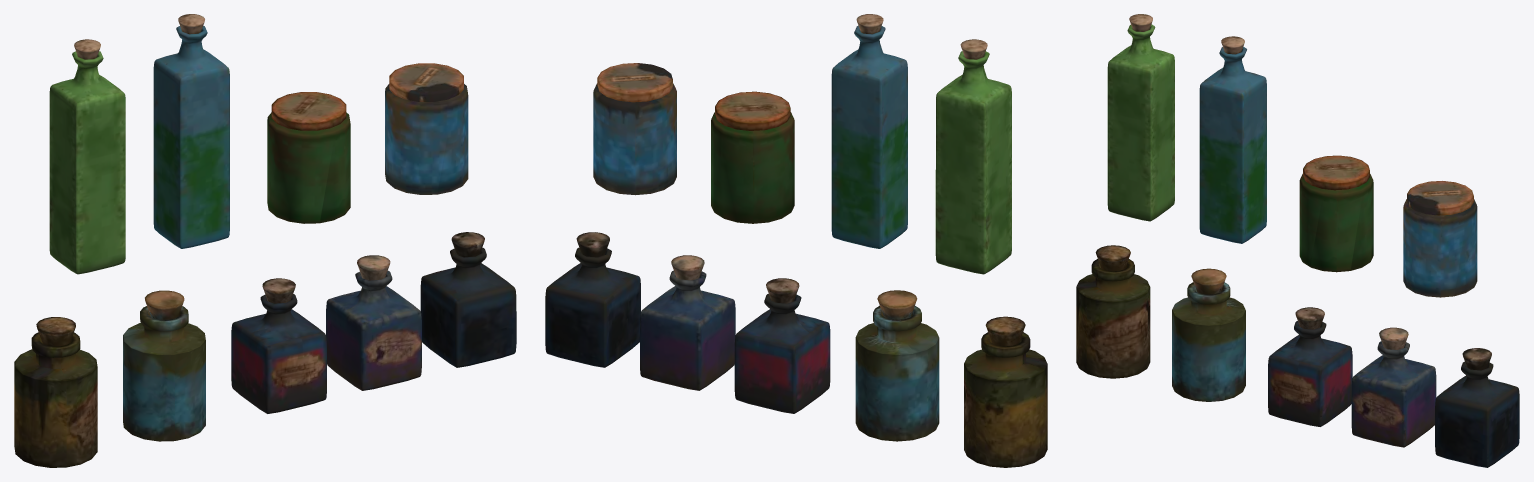
The model's file is potion_and_ingredients_bottles_witcher.glb.
3 views of the same model, side by side, from view 1: azimuth 30°, elevation 25°; view 2: azimuth 150°, elevation 25°; view 3: azimuth 330°, elevation 25° (orthographic). The views are drawn at different scales.
Visible parts, largest first — view 1: B3_low.001_Bottle3_0, B3_low.002_Bottle3.02_0, B1.02_low.001_Bottle1_0, B1.02_low_Bottle1.02_0, B4_low.001_Bottle4_0, B4_low.002_Bottle4.02_0, B2_low_Bottle2_0, B2.03_low.001_Bottle2.03_0, B2.03_low_Bottle2.02_0; view 2: B3_low.002_Bottle3.02_0, B3_low.001_Bottle3_0, B1.02_low_Bottle1.02_0, B1.02_low.001_Bottle1_0, B4_low.002_Bottle4.02_0, B4_low.001_Bottle4_0, B2_low_Bottle2_0, B2.03_low_Bottle2.02_0, B2.03_low.001_Bottle2.03_0; view 3: B3_low.002_Bottle3.02_0, B3_low.001_Bottle3_0, B1.02_low.001_Bottle1_0, B1.02_low_Bottle1.02_0, B4_low.001_Bottle4_0, B4_low.002_Bottle4.02_0, B2.03_low_Bottle2.02_0, B2.03_low.001_Bottle2.03_0, B2_low_Bottle2_0.
Boxes of the visible parts, x1,y1,x2,y2 form: B3_low.001_Bottle3_0: (49, 39, 125, 274); B3_low.002_Bottle3.02_0: (153, 14, 229, 248); B1.02_low.001_Bottle1_0: (14, 317, 97, 467); B1.02_low_Bottle1.02_0: (123, 290, 205, 441); B4_low.001_Bottle4_0: (267, 92, 350, 223); B4_low.002_Bottle4.02_0: (385, 63, 468, 194); B2_low_Bottle2_0: (231, 278, 326, 413); B2.03_low.001_Bottle2.03_0: (420, 232, 516, 367); B2.03_low_Bottle2.02_0: (326, 255, 421, 390); B3_low.002_Bottle3.02_0: (831, 14, 907, 248); B3_low.001_Bottle3_0: (935, 39, 1011, 274); B1.02_low_Bottle1.02_0: (855, 290, 939, 441); B1.02_low.001_Bottle1_0: (964, 316, 1047, 467); B4_low.002_Bottle4.02_0: (593, 63, 676, 195); B4_low.001_Bottle4_0: (711, 91, 794, 223); B2_low_Bottle2_0: (734, 278, 830, 413); B2.03_low_Bottle2.02_0: (640, 255, 735, 390); B2.03_low.001_Bottle2.03_0: (545, 232, 640, 367); B3_low.002_Bottle3.02_0: (1199, 36, 1266, 243); B3_low.001_Bottle3_0: (1107, 14, 1174, 221); B1.02_low.001_Bottle1_0: (1076, 245, 1150, 378); B1.02_low_Bottle1.02_0: (1172, 268, 1245, 401); B4_low.001_Bottle4_0: (1299, 155, 1373, 272); B4_low.002_Bottle4.02_0: (1403, 181, 1477, 297); B2.03_low_Bottle2.02_0: (1351, 327, 1436, 447); B2.03_low.001_Bottle2.03_0: (1435, 348, 1519, 467); B2_low_Bottle2_0: (1268, 307, 1352, 426).
Bounding box in the file's own units: 0.1355 × 0.1078 × 0.0203.
9 materials, 9 textured.
